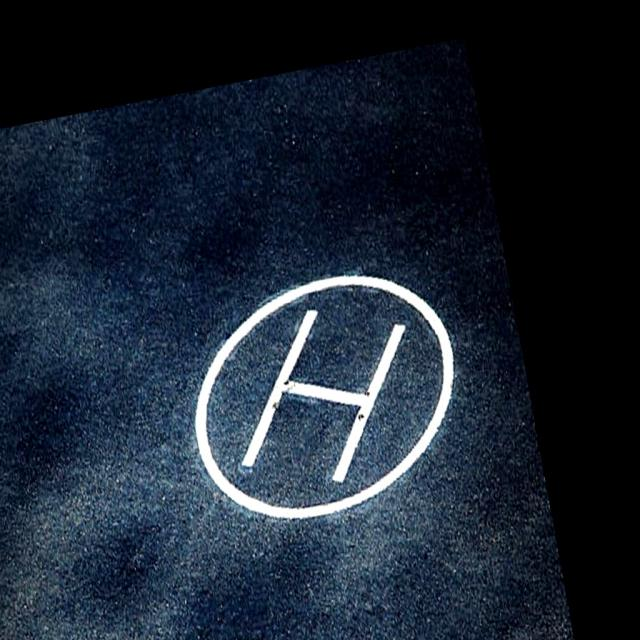helipad: (191, 270, 460, 524)
